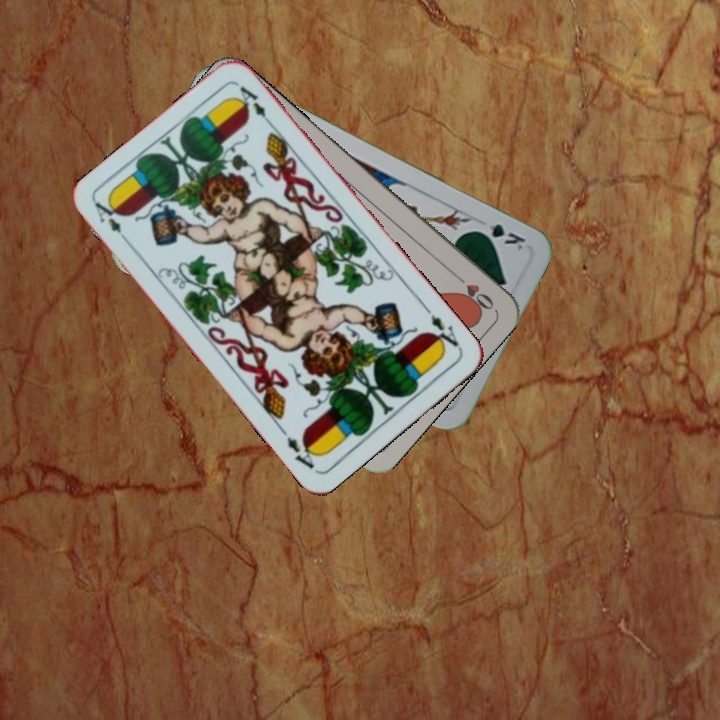EA: (91, 198, 134, 248), (425, 310, 463, 354)
GK: (471, 219, 528, 254)
HO: (448, 269, 497, 313)
